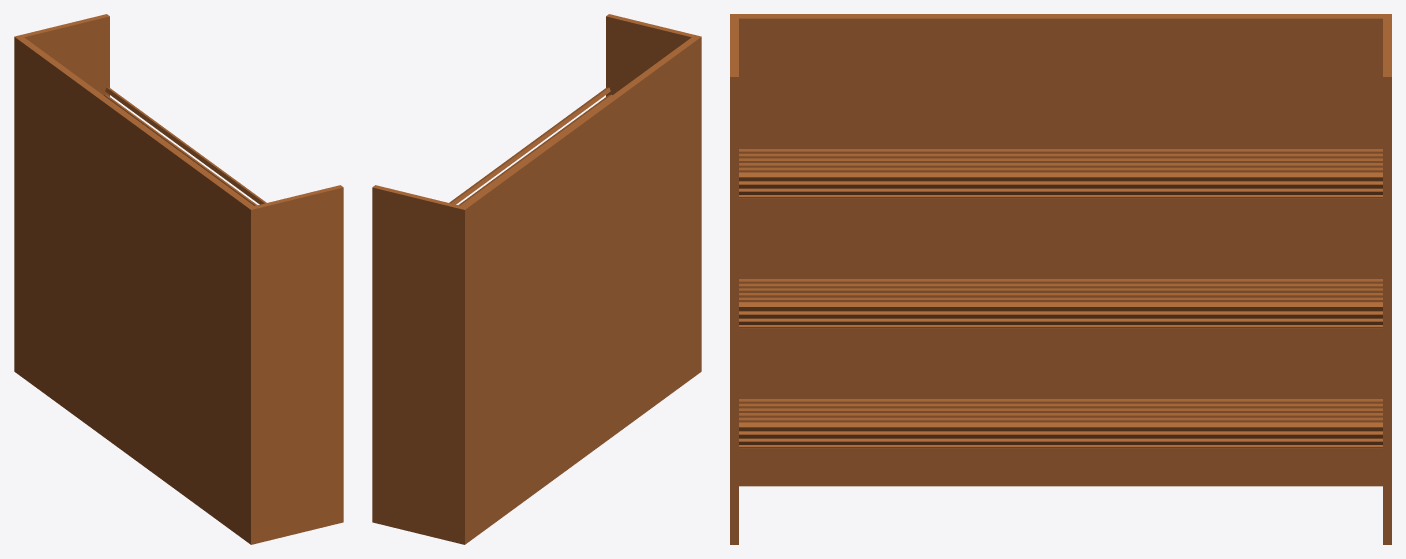
File: Ветрина хлеб.fbx
3 views of the same model, side by side, from view 1: azimuth 30°, elevation 25°; view 2: azimuth 150°, elevation 25°; view 3: azimuth 270°, elevation 25° (orthographic). The views are drawn at different scales.
Visible parts, largest first — view 1: Cube.034; view 2: Cube.034; view 3: Cube.034.
Part boxes in pixels (bbox=[...]): Cube.034: bbox=[14, 14, 343, 544]; Cube.034: bbox=[372, 14, 701, 544]; Cube.034: bbox=[730, 14, 1391, 544].
Size of the model in its own units: 127 by 438 by 562.
